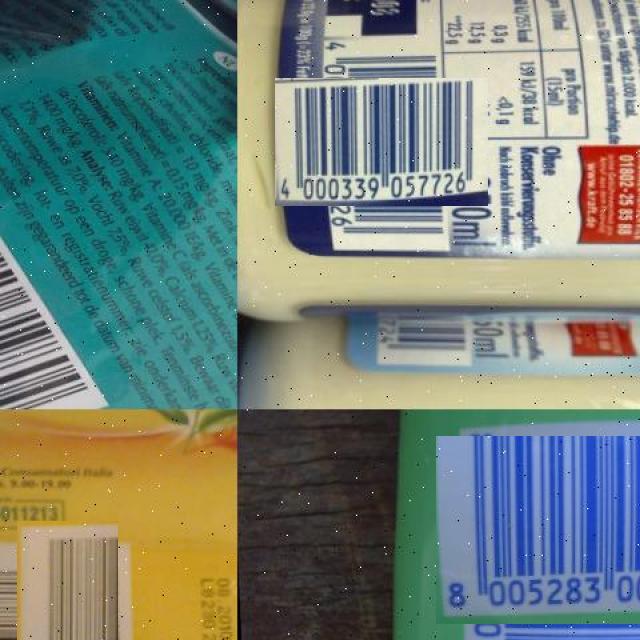Barcode: (444, 428, 640, 632), (296, 56, 468, 228), (0, 169, 110, 409), (9, 529, 128, 640)
